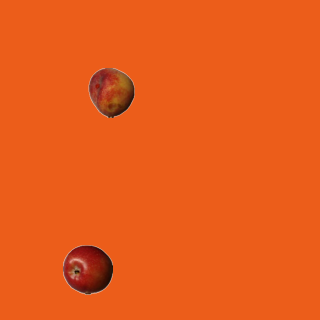Apple Braeburn: (62, 244, 112, 294)
Peach: (86, 67, 136, 117)
